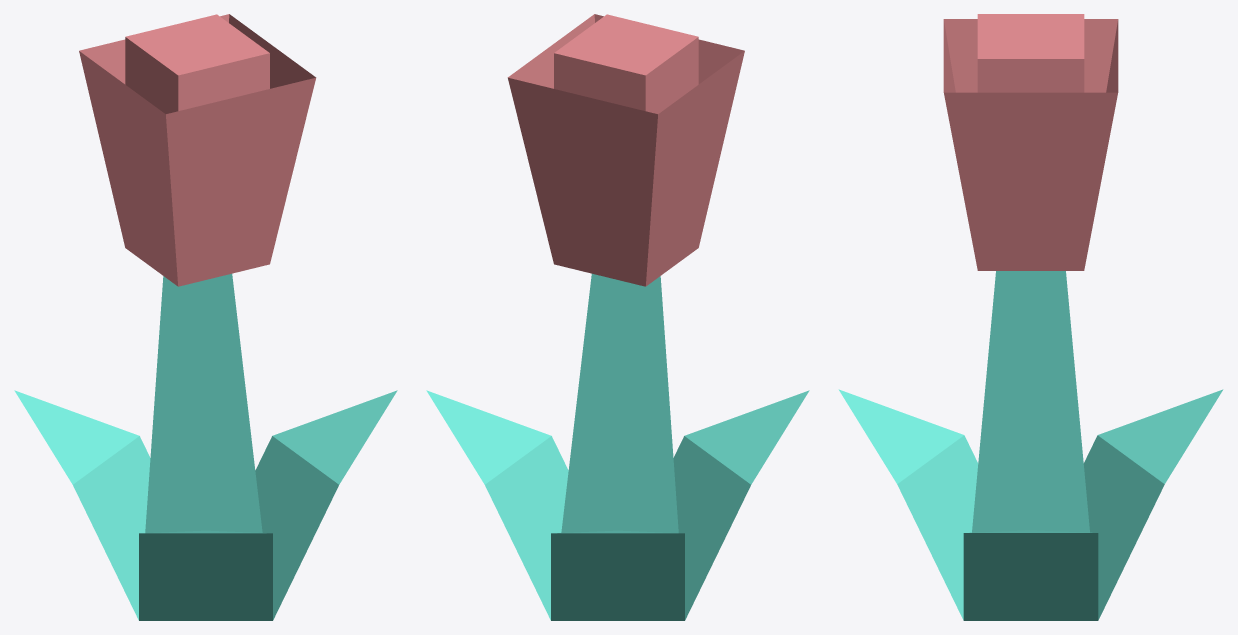
File: flower-red-a.glb
3 renders of one model, left to right at view 1: azimuth 30°, elevation 25°; view 2: azimuth 150°, elevation 25°; view 3: azimuth 270°, elevation 25°, orthographic.
Parts seen in each view (by area): view 1: flower_redA; view 2: flower_redA; view 3: flower_redA.
Part boxes in pixels (x1,y1,x2,y2): flower_redA: [14, 14, 397, 620]; flower_redA: [426, 14, 809, 620]; flower_redA: [838, 14, 1223, 620].
Size of the model in its own units: 0.1591 by 0.2925 by 0.1811.
